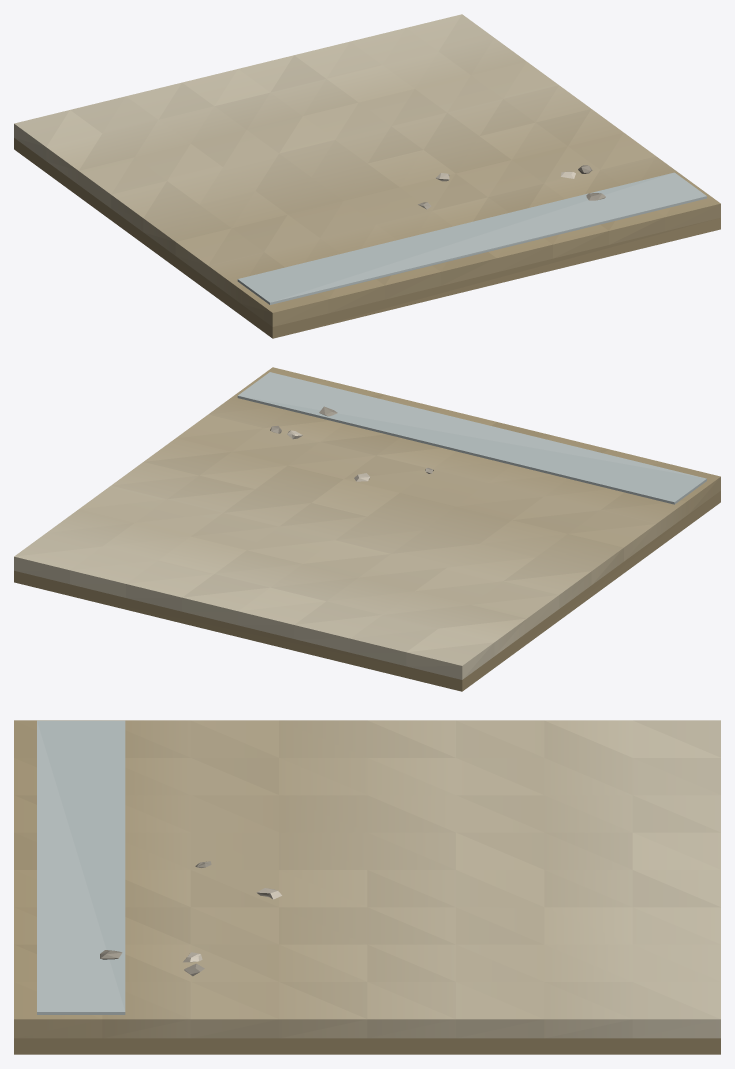
Rendered from wet-sand-shoreline.glb.
3 views of the same model, one above another, from view 1: azimuth 30°, elevation 25°; view 2: azimuth 150°, elevation 25°; view 3: azimuth 270°, elevation 25° (orthographic). The views are drawn at different scales.
Parts seen in each view (by area): view 1: wet_sand_shoreline; view 2: wet_sand_shoreline; view 3: wet_sand_shoreline.
Part boxes in pixels (x1,y1,x2,y2): wet_sand_shoreline: (14,14,720,338); wet_sand_shoreline: (14,367,720,691); wet_sand_shoreline: (14,720,720,1054).
Size of the model in its own units: 4 by 0.2717 by 4.
